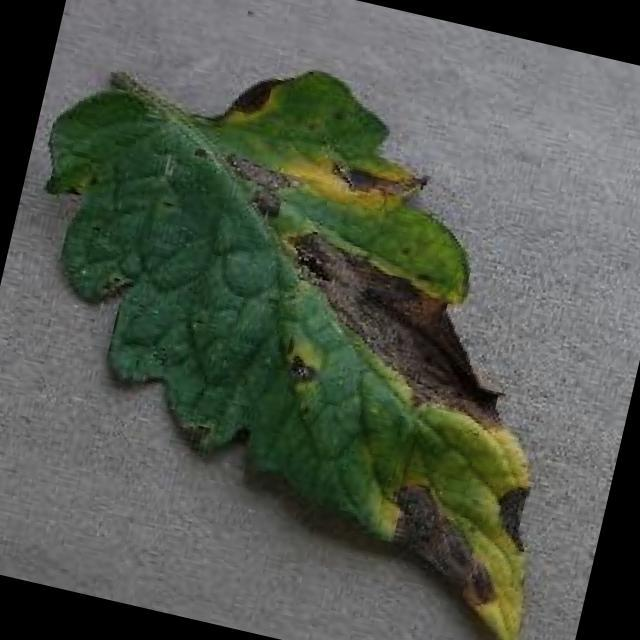Tomato Early blight leaf: (0, 15, 631, 640)
